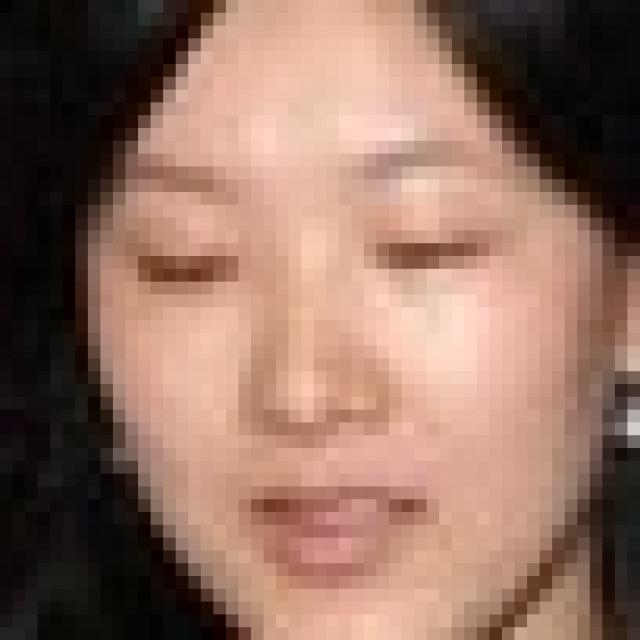Eyeclosed: (371, 223, 487, 283), (141, 239, 241, 293)
